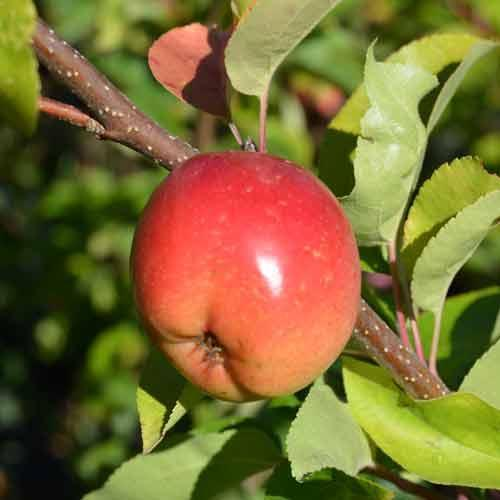apple: (127, 148, 359, 403)
